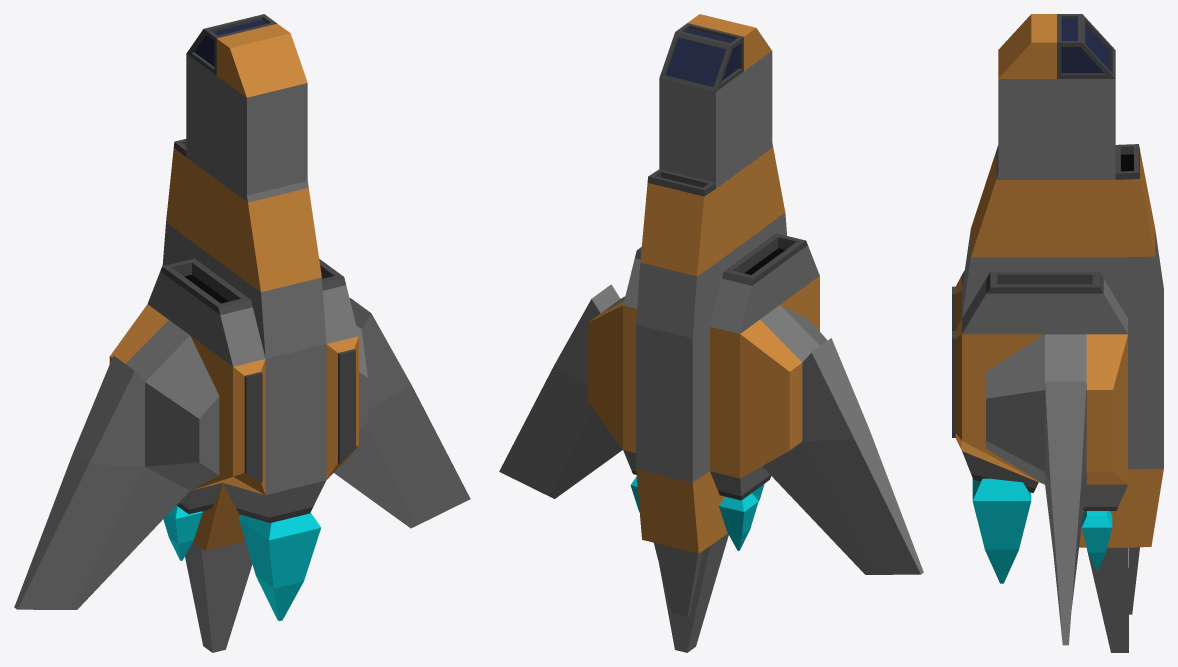
File: firstShip.fbx
3 renders of one model, left to right at view 1: azimuth 30°, elevation 25°; view 2: azimuth 150°, elevation 25°; view 3: azimuth 270°, elevation 25°, orthographic. The views are drawn at different scales.
Parts seen in each view (by area): view 1: Cube, Cube.001, Cube.002; view 2: Cube, Cube.002; view 3: Cube, Cube.001, Cube.003.
Boxes of the visible parts, left/top/right/bottom form: Cube: left=14, top=14, right=470, bottom=652; Cube.001: left=238, top=512, right=320, bottom=620; Cube.002: left=163, top=505, right=202, bottom=560; Cube: left=499, top=14, right=923, bottom=652; Cube.002: left=719, top=493, right=758, bottom=550; Cube: left=952, top=14, right=1163, bottom=652; Cube.001: left=972, top=478, right=1031, bottom=583; Cube.003: left=1081, top=511, right=1112, bottom=570.
Bounding box in the file's own units: 437 × 590 × 182.
